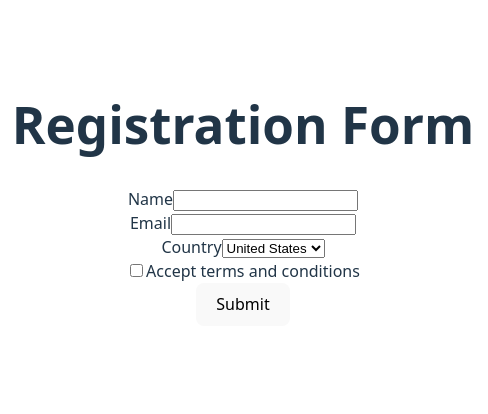
Test: ComplexForm › shows validation errors and submits correctly
// Submit without filling anything
Click the button "Submit" at (243, 304), box x1=196 y1=283 x2=290 y2=326
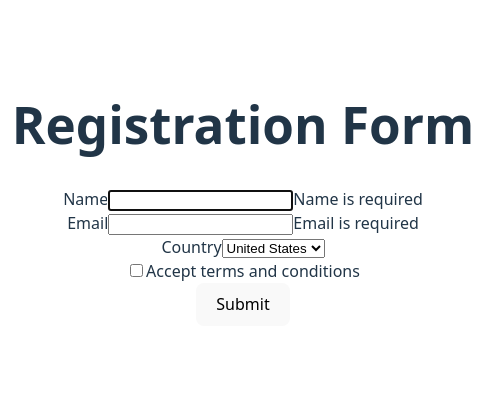
expect the text "Name is required" is shown: met, box x1=293 y1=188 x2=423 y2=210
expect the text "Email is required" is shown: met, box x1=293 y1=212 x2=419 y2=234
// Fill the form
Type "Alice" into the field labelled "Name" at (201, 200), box x1=108 y1=190 x2=293 y2=211
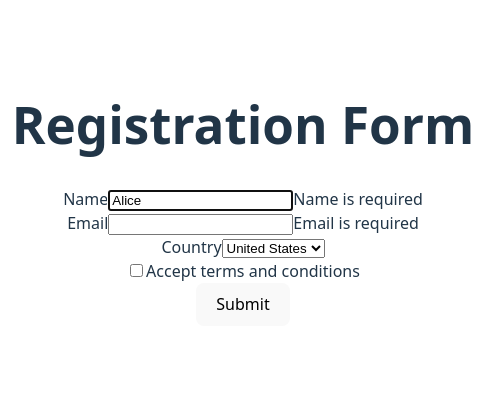
Type "alice@example.com" into the field labelled "Email" at (201, 224), box x1=108 y1=214 x2=293 y2=235
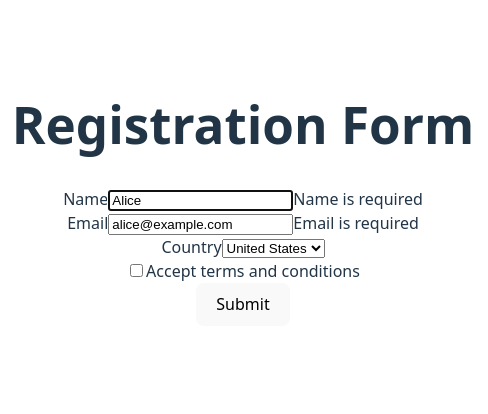
Select "Argentina" in the dropdown labelled "Country" at (273, 248), box x1=222 y1=239 x2=325 y2=258
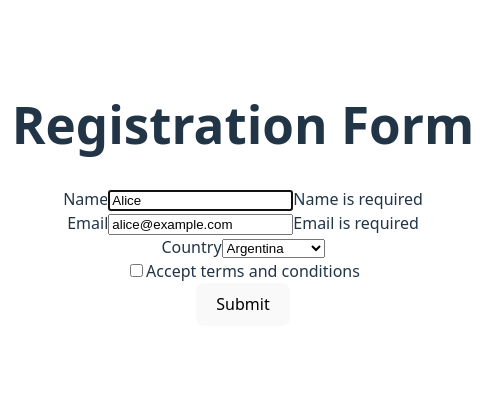
Click the checkbox labelled "Accept terms and conditions" at (137, 270), box x1=130 y1=264 x2=143 y2=277
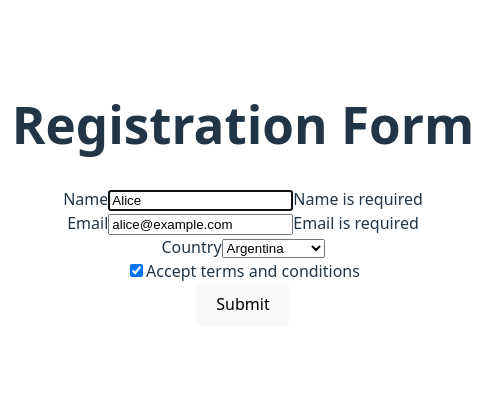
// Submit again
Click the button "Submit" at (243, 304), box x1=196 y1=283 x2=290 y2=326
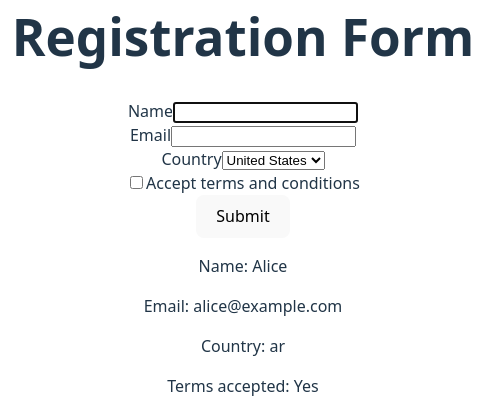
expect the element with test id "result" shows "Name: Alice": met, box x1=144 y1=255 x2=342 y2=397
expect the element with test id "result" shows "Email: alice@example.com": met, box x1=144 y1=255 x2=342 y2=397
expect the element with test id "result" shows "Country: ar": met, box x1=144 y1=255 x2=342 y2=397
